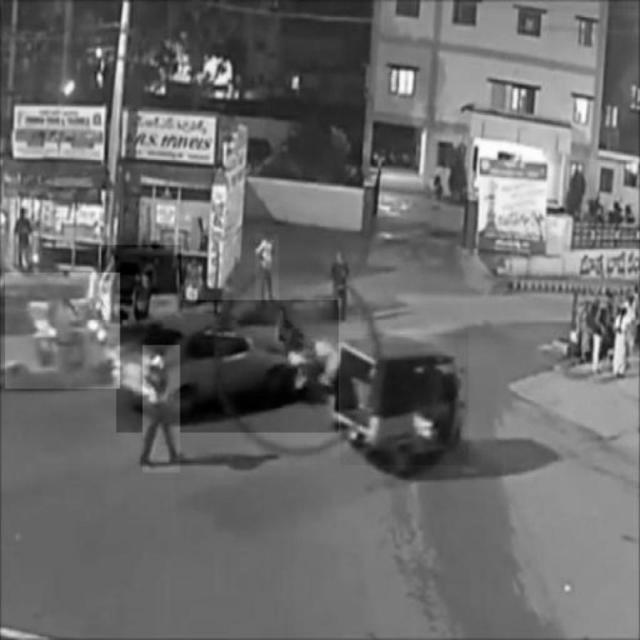accident: (117, 299, 339, 433)
person: (142, 345, 180, 473), (255, 234, 279, 300)
vehicle: (340, 334, 468, 465), (5, 273, 119, 389), (102, 246, 182, 337)
